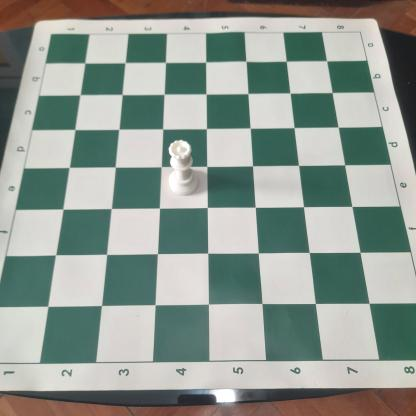white-queen: (166, 140, 200, 197)
